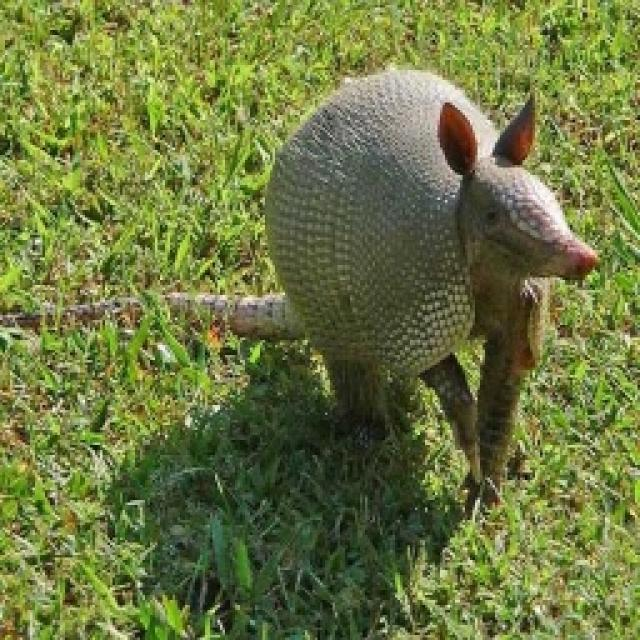not_pig: (0, 62, 600, 502)
